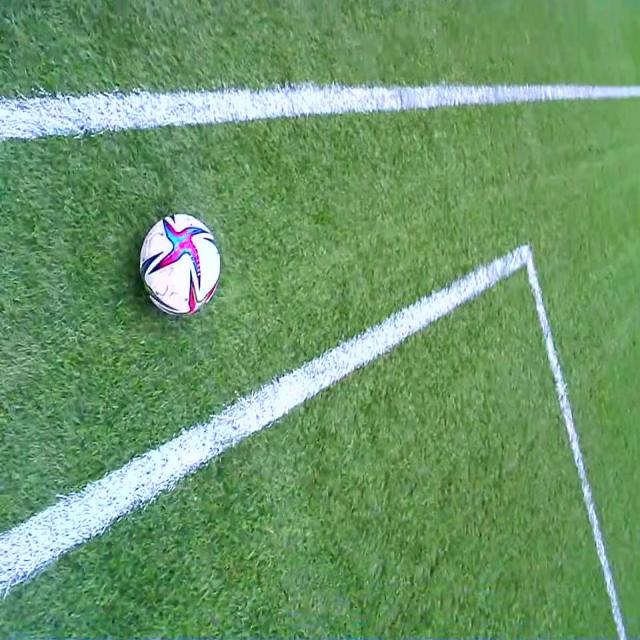ball: (139, 210, 220, 314)
